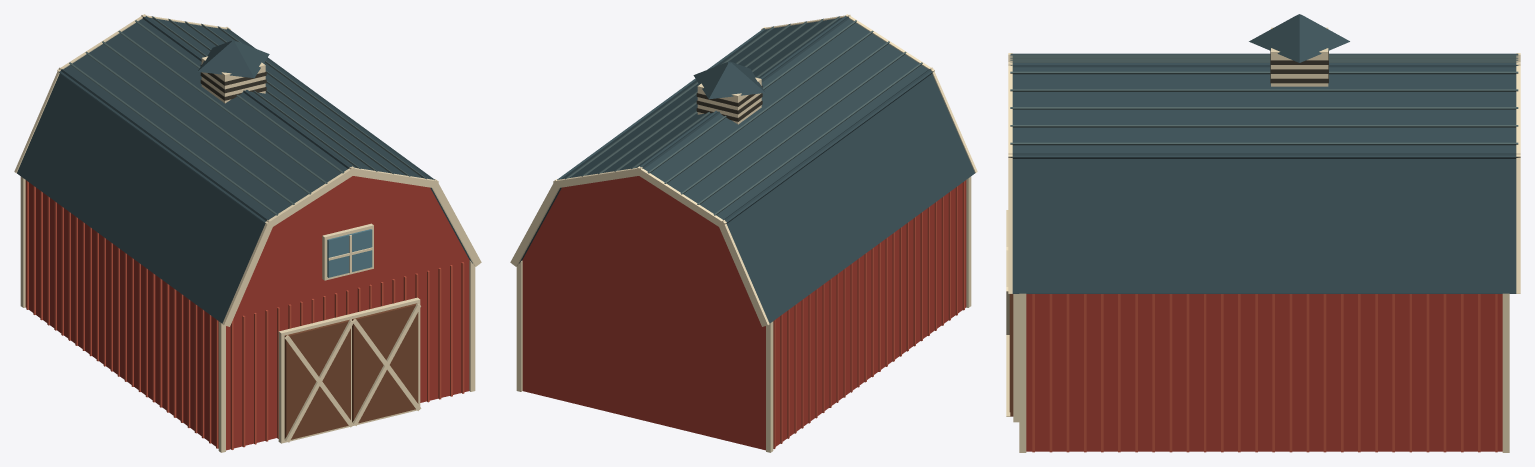
Rendered from red_barn.glb.
The picture shows the model from 3 angles, left to right: view 1: azimuth 30°, elevation 25°; view 2: azimuth 150°, elevation 25°; view 3: azimuth 270°, elevation 25°; orthographic projection. The views are drawn at different scales.
Visible parts, largest first — view 1: red_barn; view 2: red_barn; view 3: red_barn.
Part boxes in pixels (x1,y1,x2,y2): red_barn: [14, 14, 481, 452]; red_barn: [510, 14, 977, 452]; red_barn: [1006, 14, 1520, 452].
Size of the model in its own units: 8.27 by 9.18 by 11.71.
